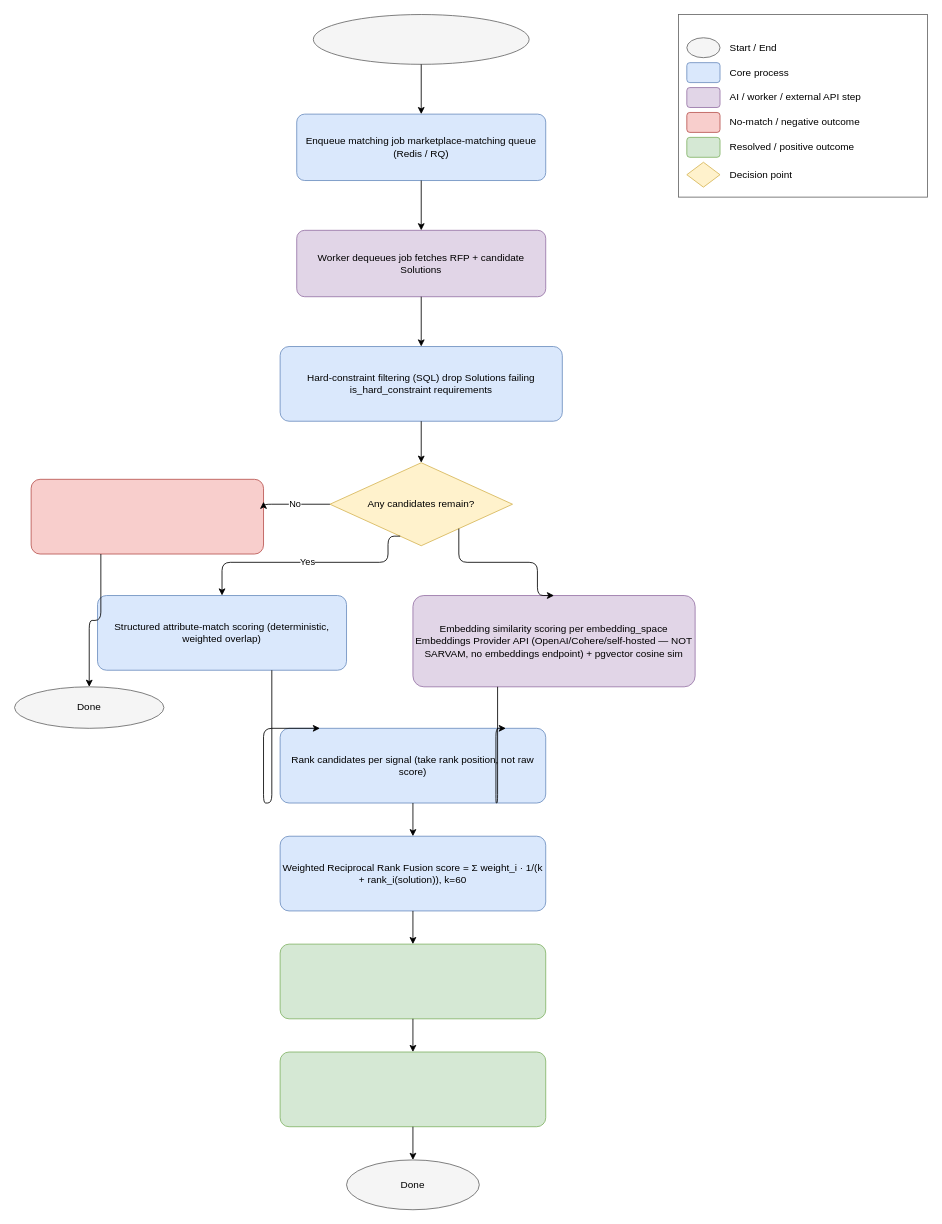
The diagram is 942 pixels wide and 1224 high, and some of its shapes have lost their labels. Here are the shapes that lost their labels. From the top down, the box of each, then its label:
(312, 14, 529, 64): RFP published or edited
(678, 14, 928, 197): Legend
(30, 478, 264, 554): No matches notify buyer, suggest relaxing requirements
(279, 943, 546, 1019): Store SolutionMatch rows final_rrf_score, rank, per-signal breakdown — immutable
(279, 1051, 546, 1127): Surface top-K ranked matches to buyer + notify matched providers
